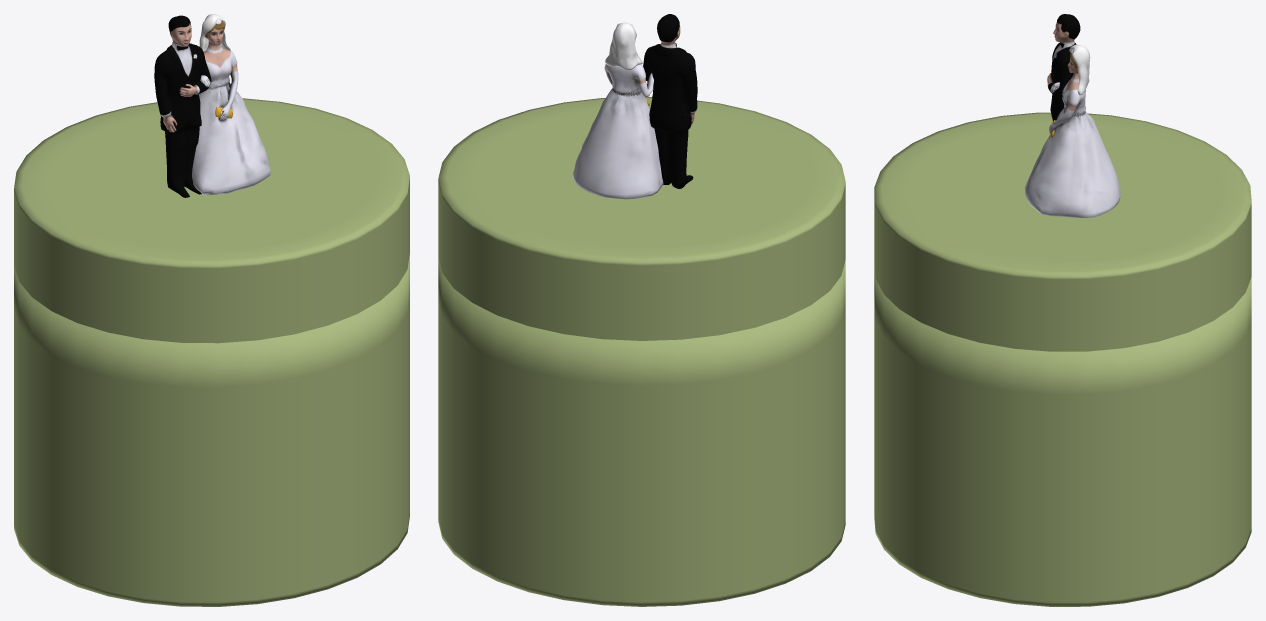
File: 1-tier-pistage-none-bridegroom.glb
3 renders of one model, left to right at view 1: azimuth 30°, elevation 25°; view 2: azimuth 150°, elevation 25°; view 3: azimuth 270°, elevation 25°, orthographic. The views are drawn at different scales.
Parts seen in each view (by area): view 1: Cylinder.019, 13501_Cake_Topper_Bride_Groom_v1_L1.004; view 2: Cylinder.019, 13501_Cake_Topper_Bride_Groom_v1_L1.004; view 3: Cylinder.019, 13501_Cake_Topper_Bride_Groom_v1_L1.004.
Part boxes in pixels (x1,y1,x2,y2): Cylinder.019: [14, 98, 409, 606]; 13501_Cake_Topper_Bride_Groom_v1_L1.004: [154, 14, 270, 197]; Cylinder.019: [438, 97, 845, 606]; 13501_Cake_Topper_Bride_Groom_v1_L1.004: [572, 14, 697, 199]; Cylinder.019: [874, 112, 1251, 606]; 13501_Cake_Topper_Bride_Groom_v1_L1.004: [1024, 14, 1120, 217].
Size of the model in its own units: 2.63 by 3.7 by 2.55.
2 materials, 1 textured.
